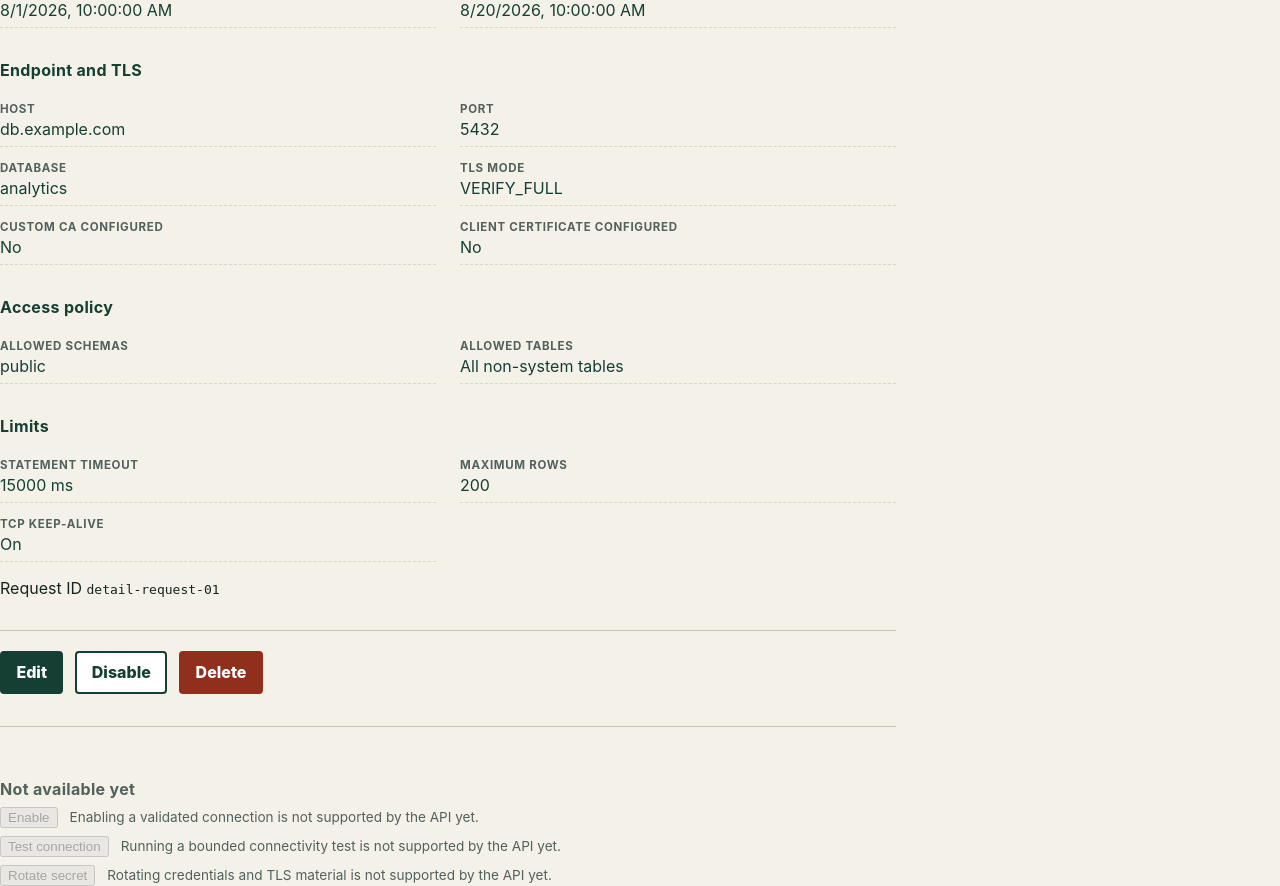
Test: ConnectionDetailPanel › disables a connection and replaces the loaded detail
The width and height of the screenshot is (1280, 886).
(page scrolled)
Step 1. Click the button "Disable" → (121, 672), box top-left (75, 650), bottom-right (167, 694)
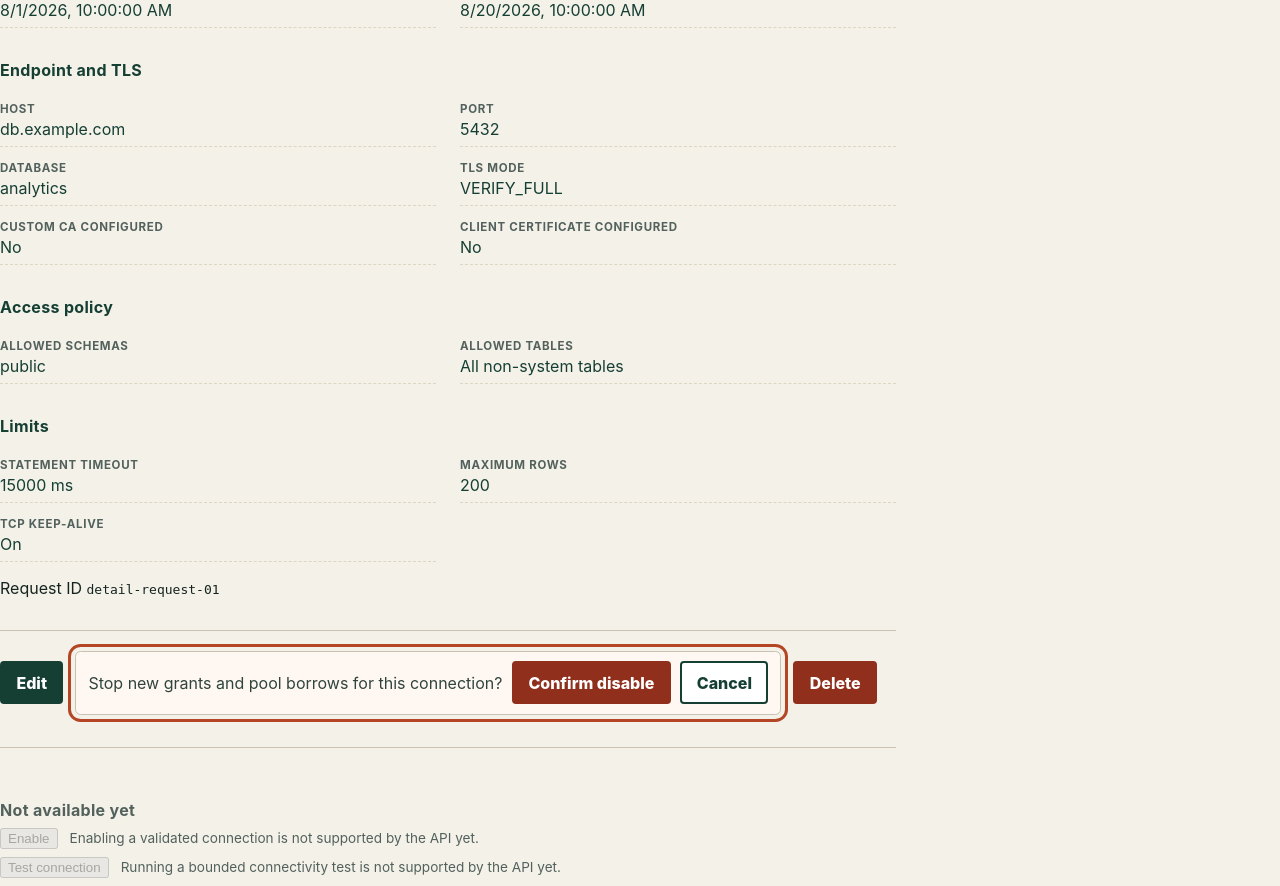
Step 2. Click the button "Confirm disable" → (591, 683), box top-left (512, 661), bottom-right (671, 704)
(page scrolled)
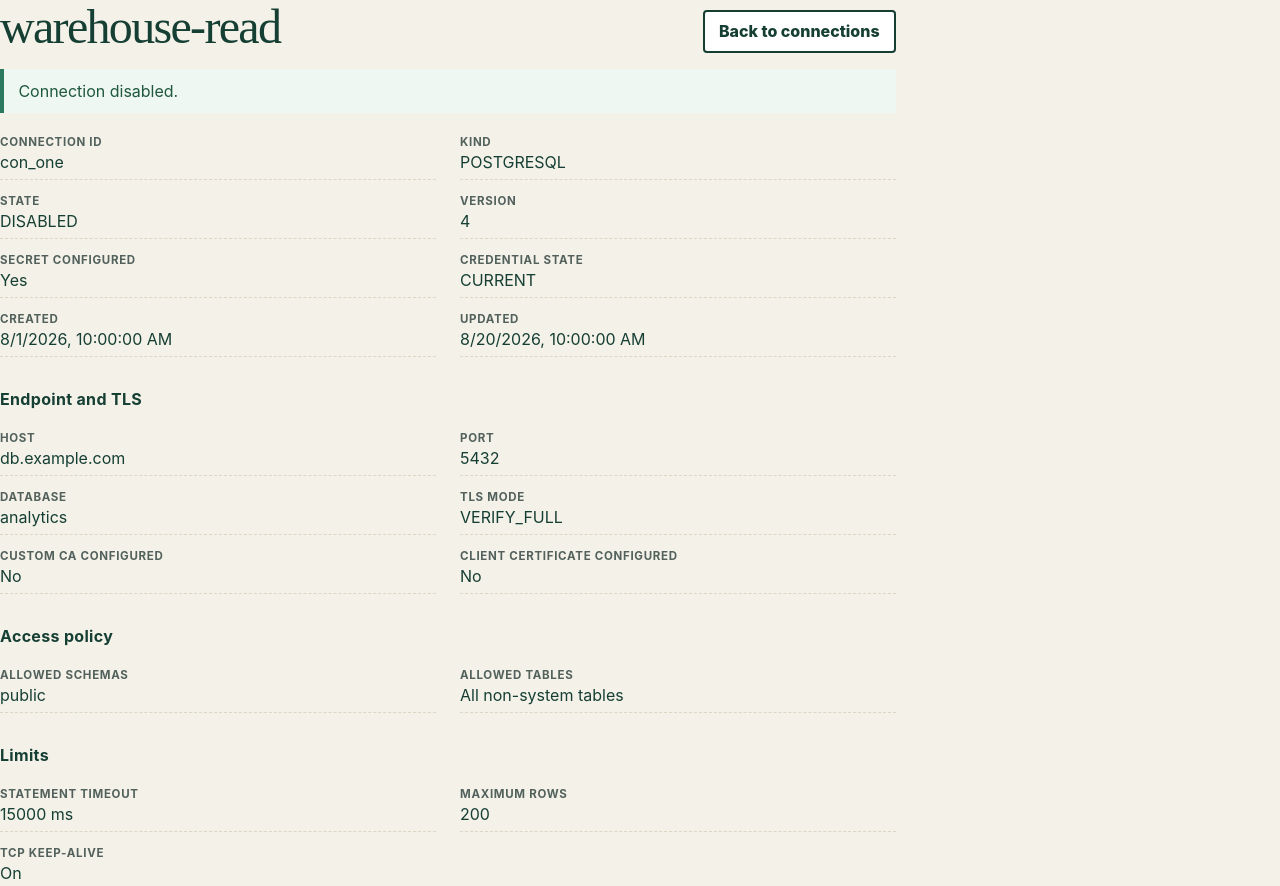
Expected: the text "con_one" is shown, top-left (0, 152), bottom-right (64, 172)
Expected: the message reads "Connection disabled.", top-left (18, 81), bottom-right (178, 101)
